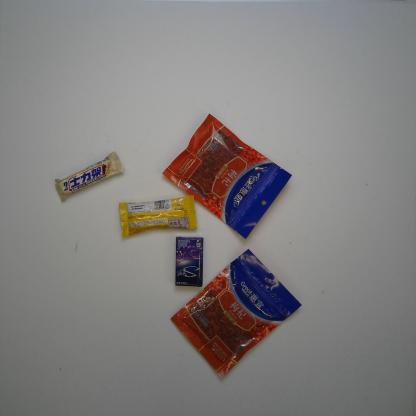Chocolate: (52, 150, 127, 204), (118, 193, 199, 239)
Dried Fruit: (167, 246, 302, 379), (158, 112, 294, 240)
Gum: (173, 236, 205, 287)
